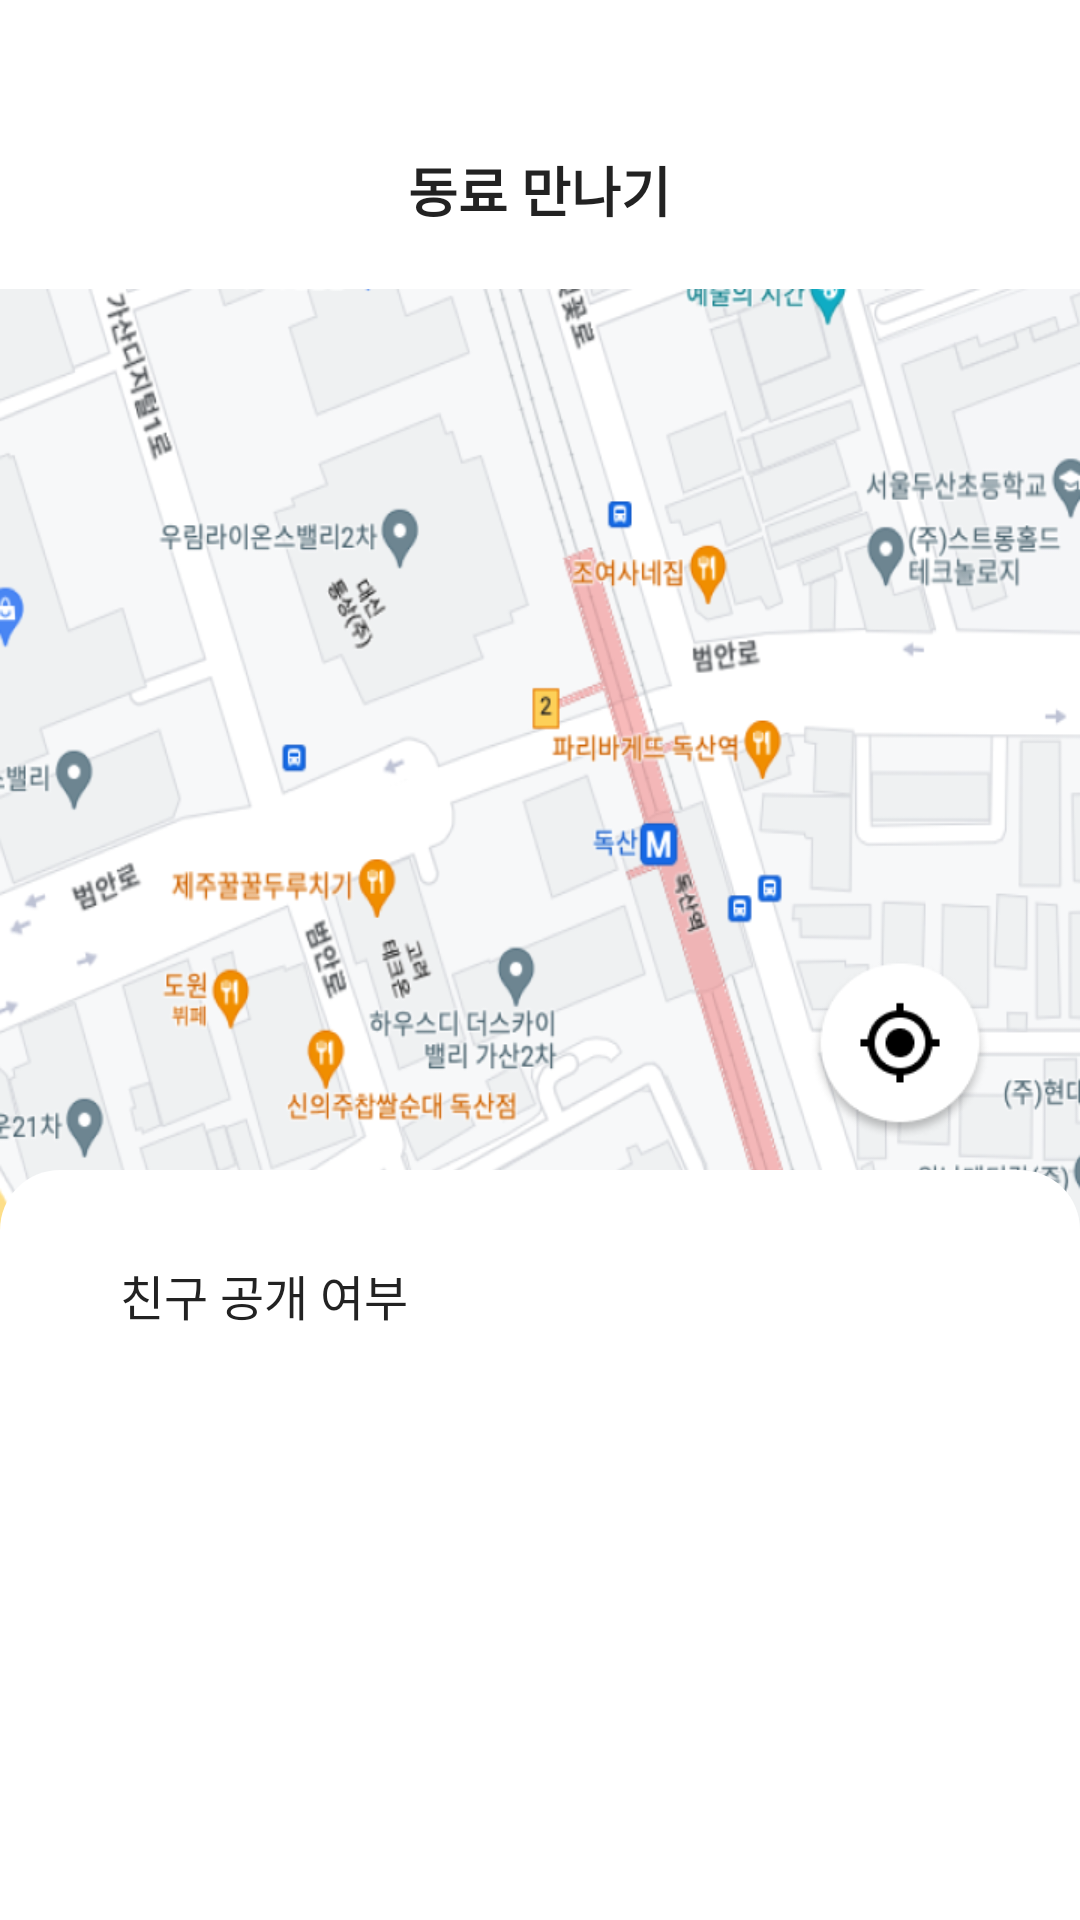

Named icons in this screenshot (1080 x 1920) and their bounding boxes, (x1, y1, x2, y2):
location back: (810, 960, 990, 1140)
